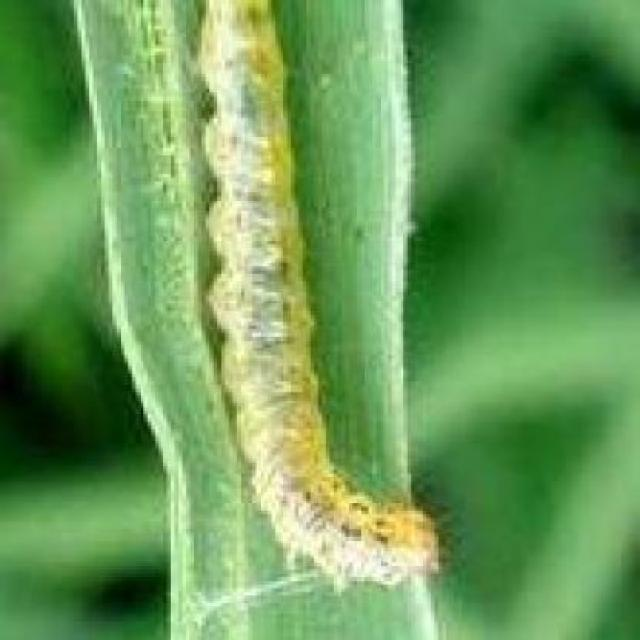leaf-folder: (138, 5, 500, 610)
